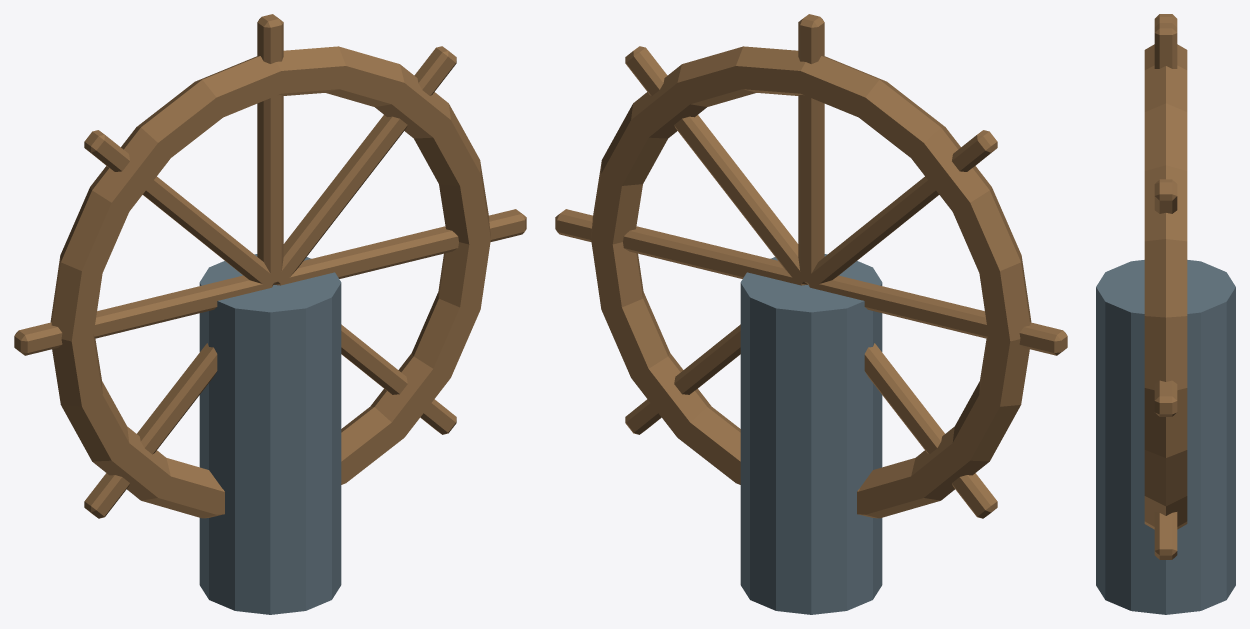
The model's file is equipment-ship-wheel.lod0.glb.
3 renders of one model, left to right at view 1: azimuth 30°, elevation 25°; view 2: azimuth 150°, elevation 25°; view 3: azimuth 270°, elevation 25°, orthographic.
Visible parts, largest first — view 1: equipment-ship-wheel__wheel, equipment-ship-wheel__body; view 2: equipment-ship-wheel__wheel, equipment-ship-wheel__body; view 3: equipment-ship-wheel__body, equipment-ship-wheel__wheel.
Boxes of the visible parts, x1,y1,x2,y2 form: equipment-ship-wheel__wheel: (14, 14, 526, 518); equipment-ship-wheel__body: (199, 254, 341, 614); equipment-ship-wheel__wheel: (555, 14, 1067, 518); equipment-ship-wheel__body: (740, 254, 882, 614); equipment-ship-wheel__body: (1096, 260, 1235, 614); equipment-ship-wheel__wheel: (1144, 14, 1187, 559).
Bounding box in the file's own units: 1.4 × 1.5 × 0.34.
